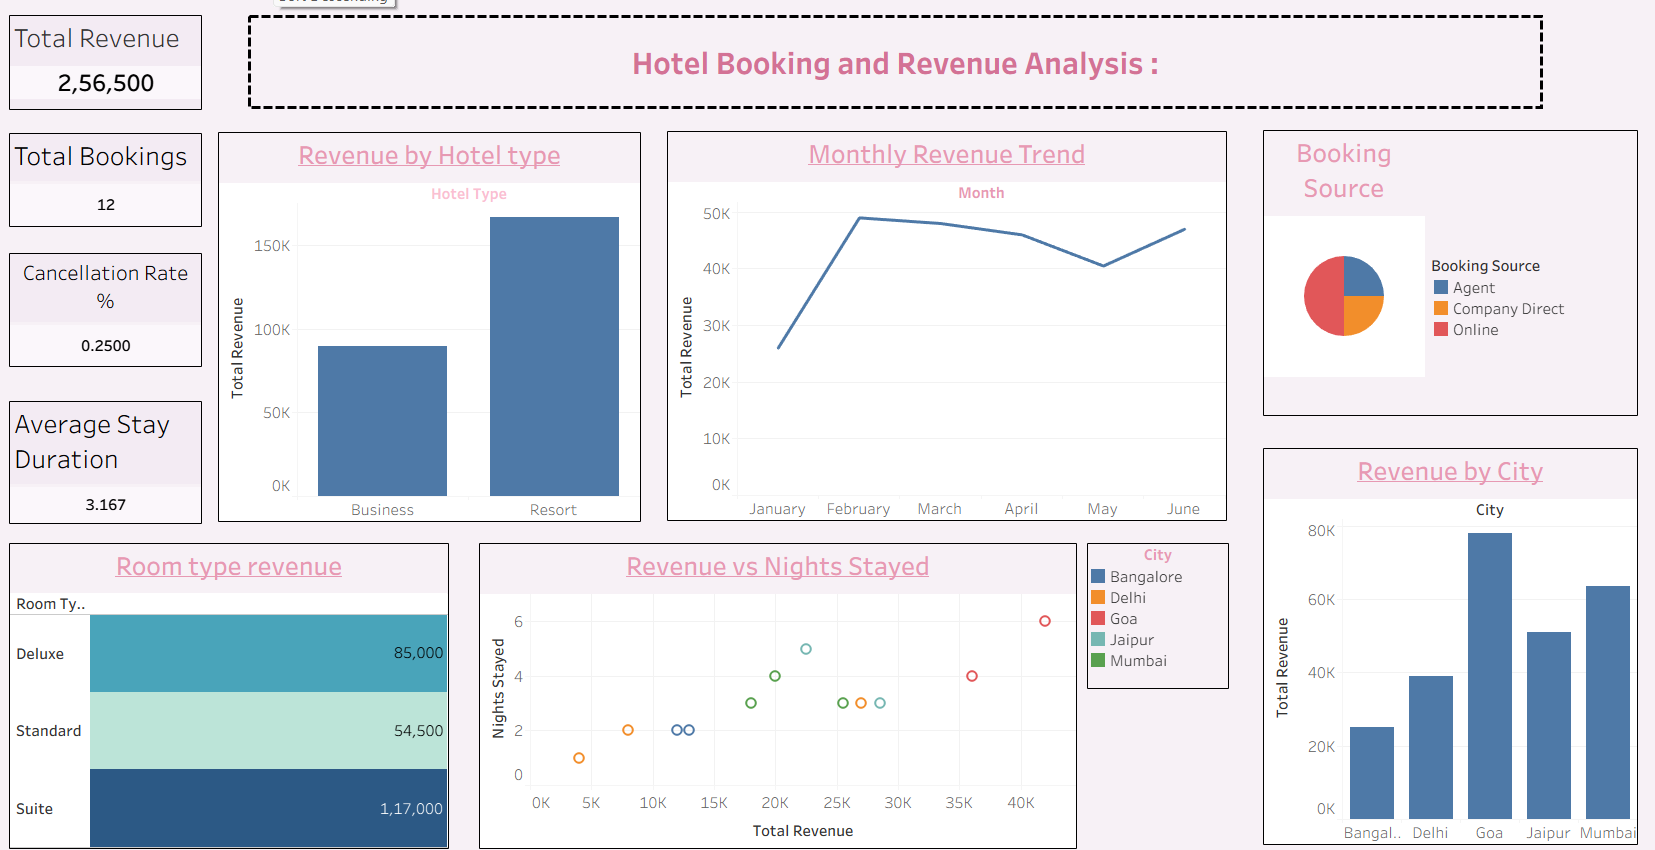

The page's visual inventory and layout, read from the dashboard file:
{"tool":"tableau","page":{"name":"Dashboard 1","canvas":[1000,1000],"units":"permille","ordinal":0},"visuals":[{"type":"dashboard-object","box":[0,9.3,14.4,27.9]},{"type":"worksheet","title":"Total Revenue","mark":"Text","box":[6,18,116.5,110.7]},{"type":"title","box":[150.3,18.6,781.7,109.2]},{"type":"worksheet","title":"Booking Source Distribution","mark":"Pie","box":[763.1,152.2,226.1,332.2]},{"type":"worksheet","title":"Monthly Revenue Trend","mark":"Line","rows":["Total Revenue"],"cols":["Month"],"box":[403.1,153.2,338,453]},{"type":"worksheet","title":"Revenue by Hotel type","mark":"Automatic","rows":["Total Revenue"],"cols":["Hotel Type"],"box":[132.3,154.4,255.6,453]},{"type":"worksheet","title":"Total Bookings","mark":"Automatic","box":[6,155.7,116.5,109.4]},{"type":"worksheet","title":"Cancellation Rate %","mark":"Automatic","box":[6,295,116.5,132.4]},{"type":"legend","title":"Booking Source Distribution","param":"[federated.0rbwcps0xhai4h170xqt907jn593].[none:Booking Source:nk]","box":[864.1,297.3,84.8,109.4]},{"type":"worksheet","title":"Average Stay Duration","mark":"Automatic","box":[6,467.2,116.5,142.9]},{"type":"worksheet","title":"Revenue by City","mark":"Automatic","rows":["Total Revenue"],"cols":["City"],"box":[763.1,521.5,226.1,461.1]},{"type":"legend","title":"Revenue vs Nights Stayed","param":"[federated.0rbwcps0xhai4h170xqt907jn593].[none:City:nk]","box":[656.6,631.8,86,169.6]},{"type":"worksheet","title":"Room type revenue","mark":"Square","rows":["Room Type"],"box":[6,631.9,265.8,355.2]},{"type":"worksheet","title":"Revenue vs Nights Stayed","mark":"Automatic","rows":["Nights Stayed"],"cols":["Total Revenue"],"box":[289.8,631.9,360.8,355.2]}]}

Visuals, with their boxes on the dashboard's canvas, which has no fixed pixel size, in thousandths of its width and height (x1, y1, x2, y2). These are canvas units, not pixel positions in the 1655x850 screenshot, which may show the page scaled, cropped or inside an application window:
dashboard-object: [0,9,14,37]
"Total Revenue" worksheet (Text marks): [6,18,122,129]
title: [150,19,932,128]
"Booking Source Distribution" worksheet (Pie marks): [763,152,989,484]
"Monthly Revenue Trend" worksheet (Line marks): [403,153,741,606]
"Revenue by Hotel type" worksheet: [132,154,388,607]
"Total Bookings" worksheet: [6,156,122,265]
"Cancellation Rate %" worksheet: [6,295,122,427]
"Booking Source Distribution" legend: [864,297,949,407]
"Average Stay Duration" worksheet: [6,467,122,610]
"Revenue by City" worksheet: [763,522,989,983]
"Revenue vs Nights Stayed" legend: [657,632,743,801]
"Room type revenue" worksheet (Square marks): [6,632,272,987]
"Revenue vs Nights Stayed" worksheet: [290,632,651,987]
